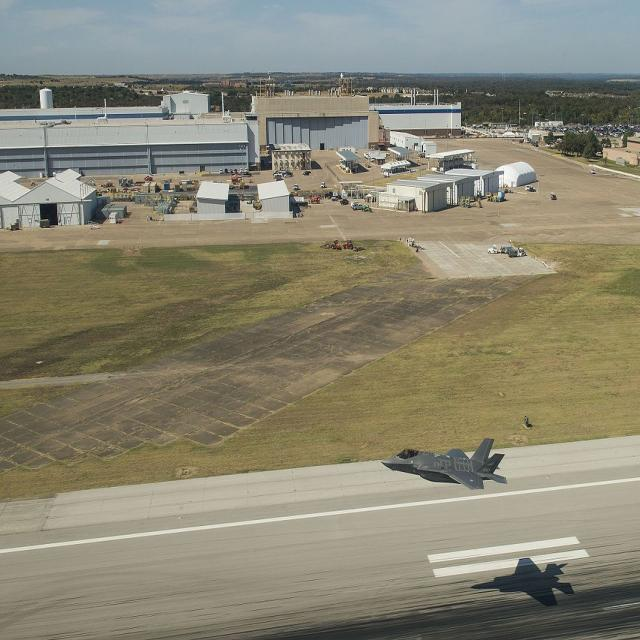MIL_Plane: (380, 436, 508, 491)
